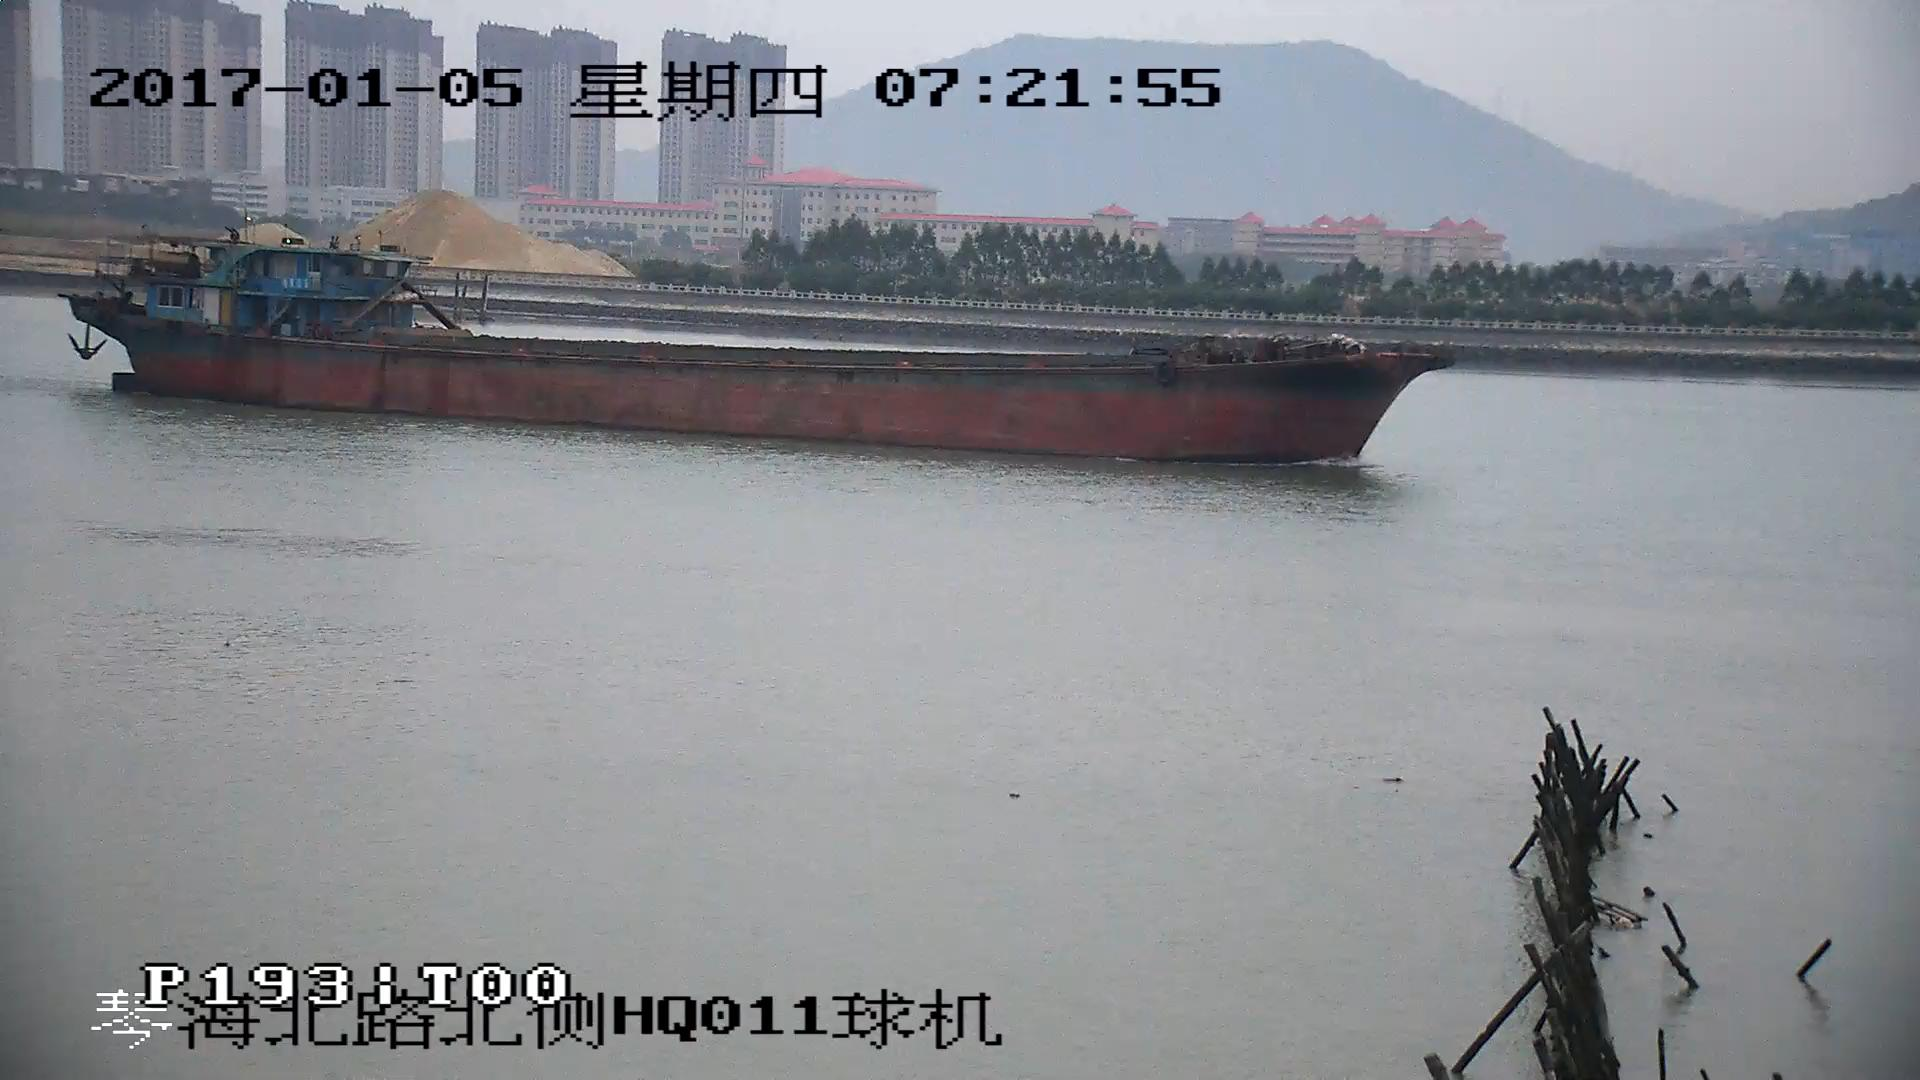bulk cargo carrier: (65, 233, 1454, 460)
